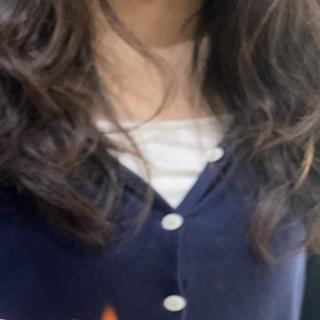fire: (95, 303, 124, 320)
